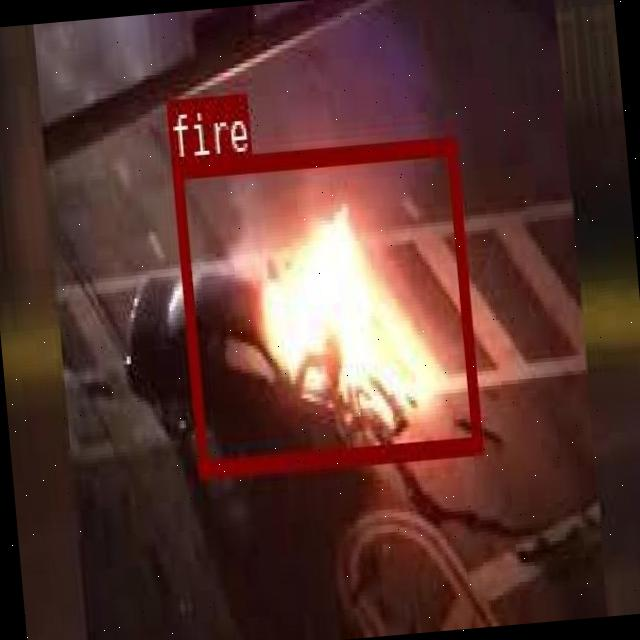fire: (170, 134, 480, 474)
